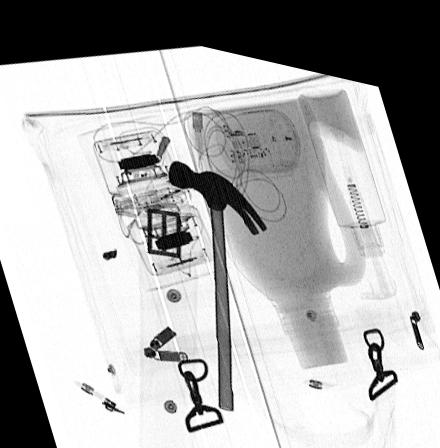Hammer: (167, 151, 269, 399)
